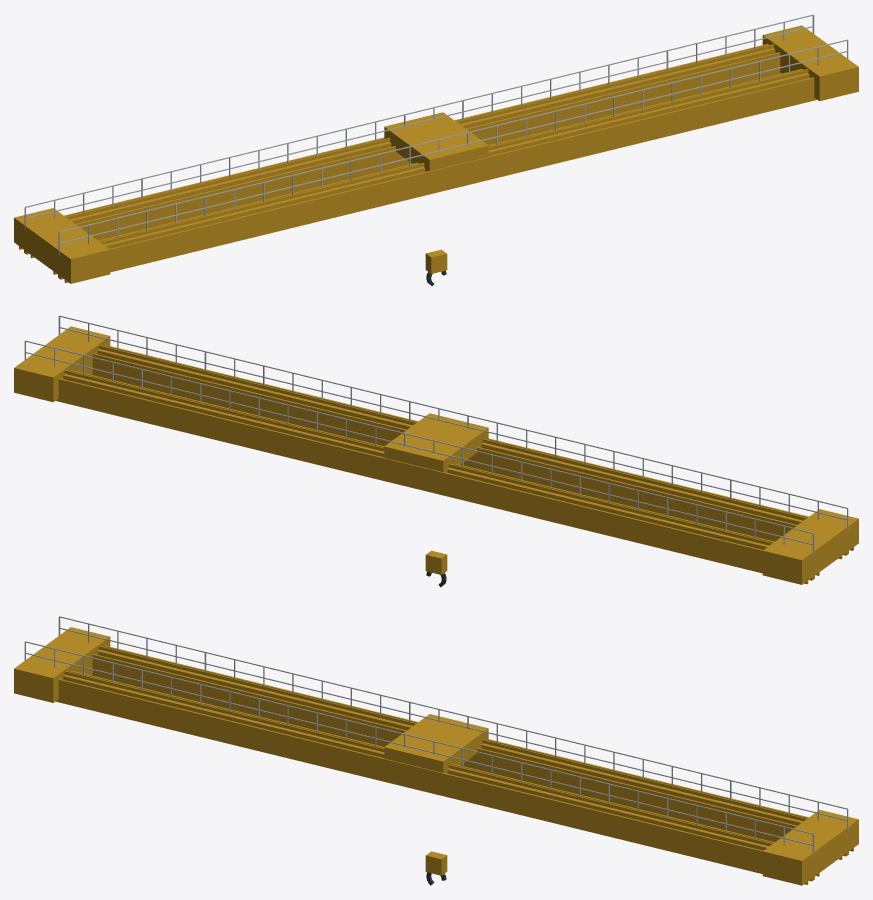
Rendered from crane_bridge.glb.
3 renders of one model, top to bottom at view 1: azimuth 30°, elevation 25°; view 2: azimuth 150°, elevation 25°; view 3: azimuth 330°, elevation 25°, orthographic.
Parts seen in each view (by area): view 1: bridge, trolley, hook; view 2: bridge, trolley, hook; view 3: bridge, trolley, hook.
Boxes of the visible parts, box(x1,y1,x2,y2) form: bridge: box(14, 14, 858, 283); trolley: box(384, 112, 488, 171); hook: box(425, 249, 447, 286); bridge: box(14, 315, 858, 584); trolley: box(384, 413, 488, 472); hook: box(425, 550, 447, 587); bridge: box(14, 616, 858, 885); trolley: box(384, 714, 488, 773); hook: box(425, 851, 447, 885).
Bounding box in the file's own units: 40.04 × 7.82 × 5.
